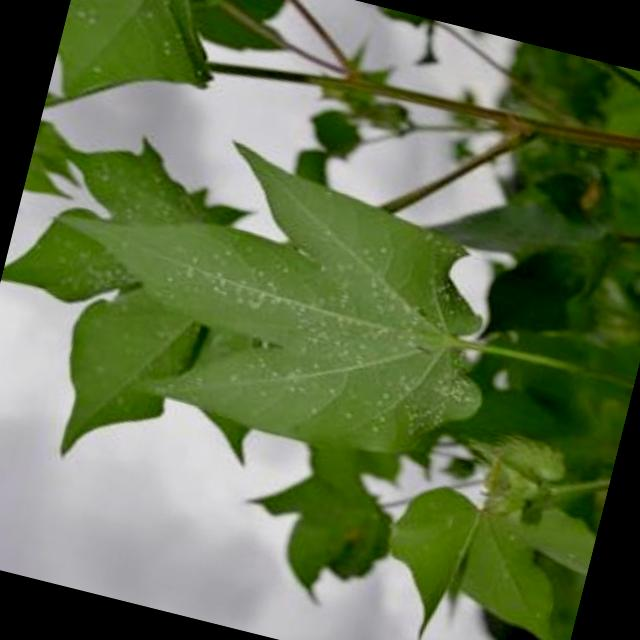Silverleaf whitefly: (75, 97, 530, 518)
